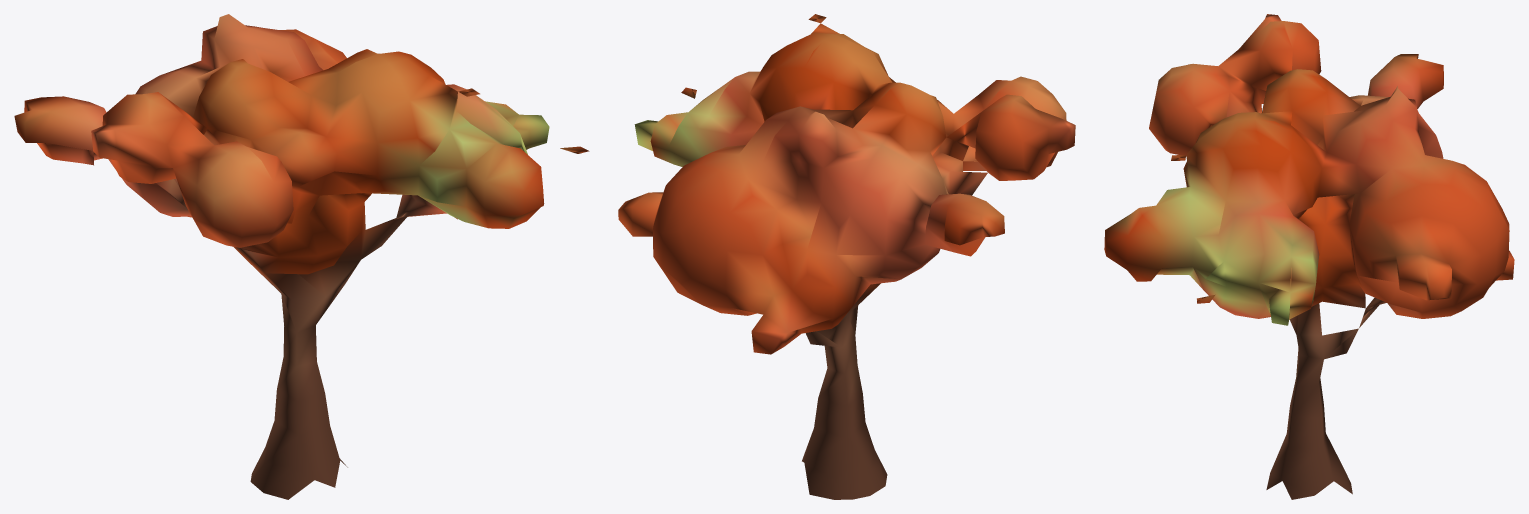
File: canopy-tree-211-lod2.obj
The picture shows the model from 3 angles, left to right: view 1: azimuth 30°, elevation 25°; view 2: azimuth 150°, elevation 25°; view 3: azimuth 270°, elevation 25°; orthographic projection. The views are drawn at different scales.
Visible parts, largest first — view 1: simplified; view 2: simplified; view 3: simplified.
Boxes of the visible parts, box(x1,y1,x2,y2) form: simplified: box(14, 14, 589, 499); simplified: box(618, 14, 1075, 499); simplified: box(1104, 14, 1514, 499).
Bounding box in the file's own units: 360 × 329 × 310.
